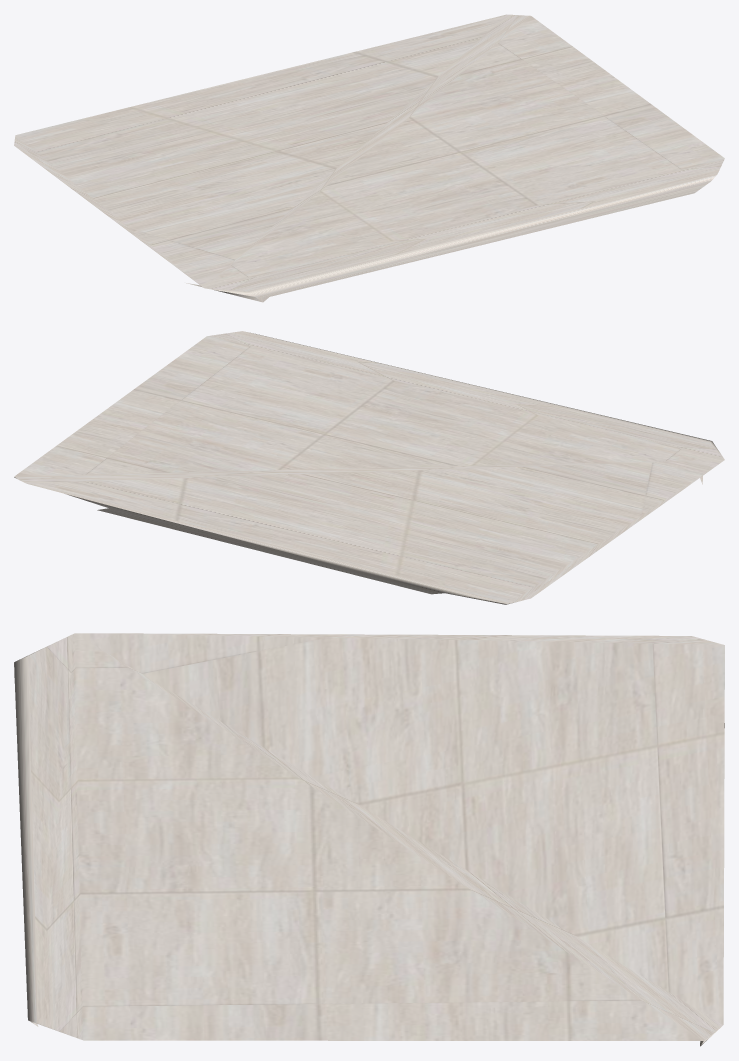
File: pisoMus.obj
3 renders of one model, top to bottom at view 1: azimuth 30°, elevation 25°; view 2: azimuth 150°, elevation 25°; view 3: azimuth 270°, elevation 25°, orthographic. The views are drawn at different scales.
Parts seen in each view (by area): view 1: pCube1; view 2: pCube1; view 3: pCube1.
Boxes of the visible parts, box(x1,y1,x2,y2) form: pCube1: box(14, 14, 724, 302); pCube1: box(14, 331, 724, 604); pCube1: box(14, 633, 724, 1046).
Size of the model in its own units: 27.72 by 0.5886 by 20.34.
